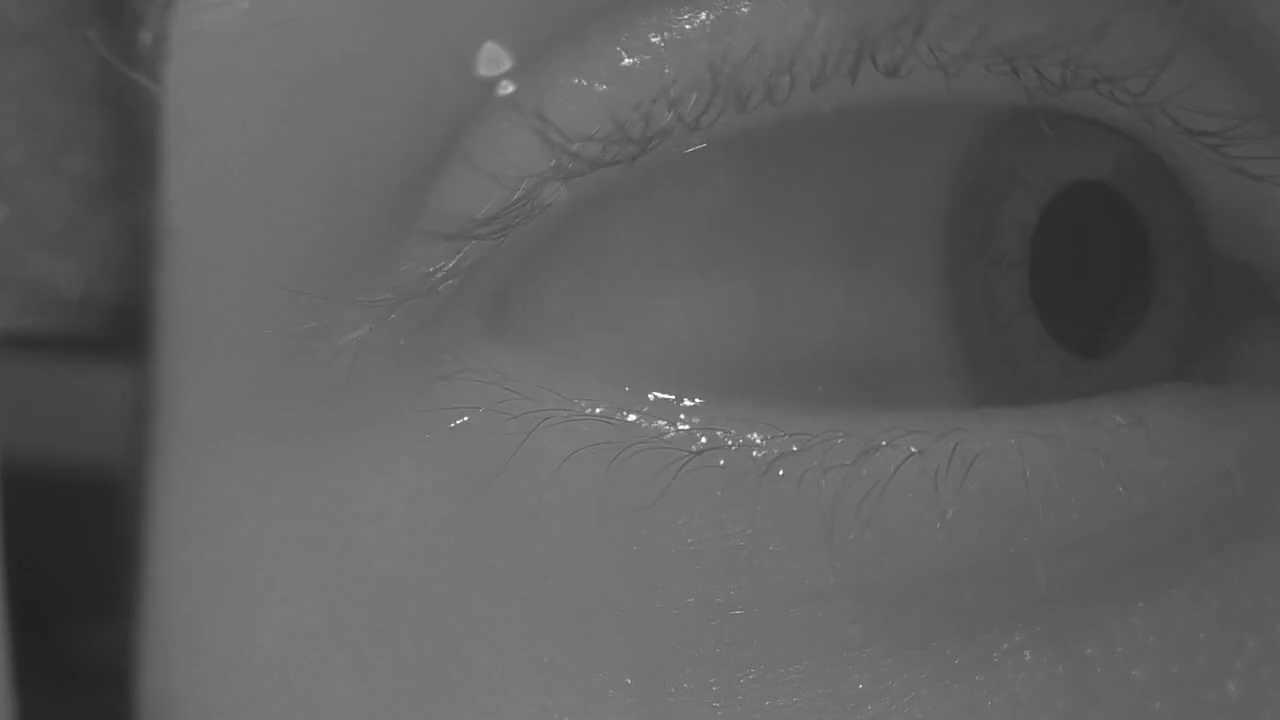pupil: (1026, 181, 1146, 359)
